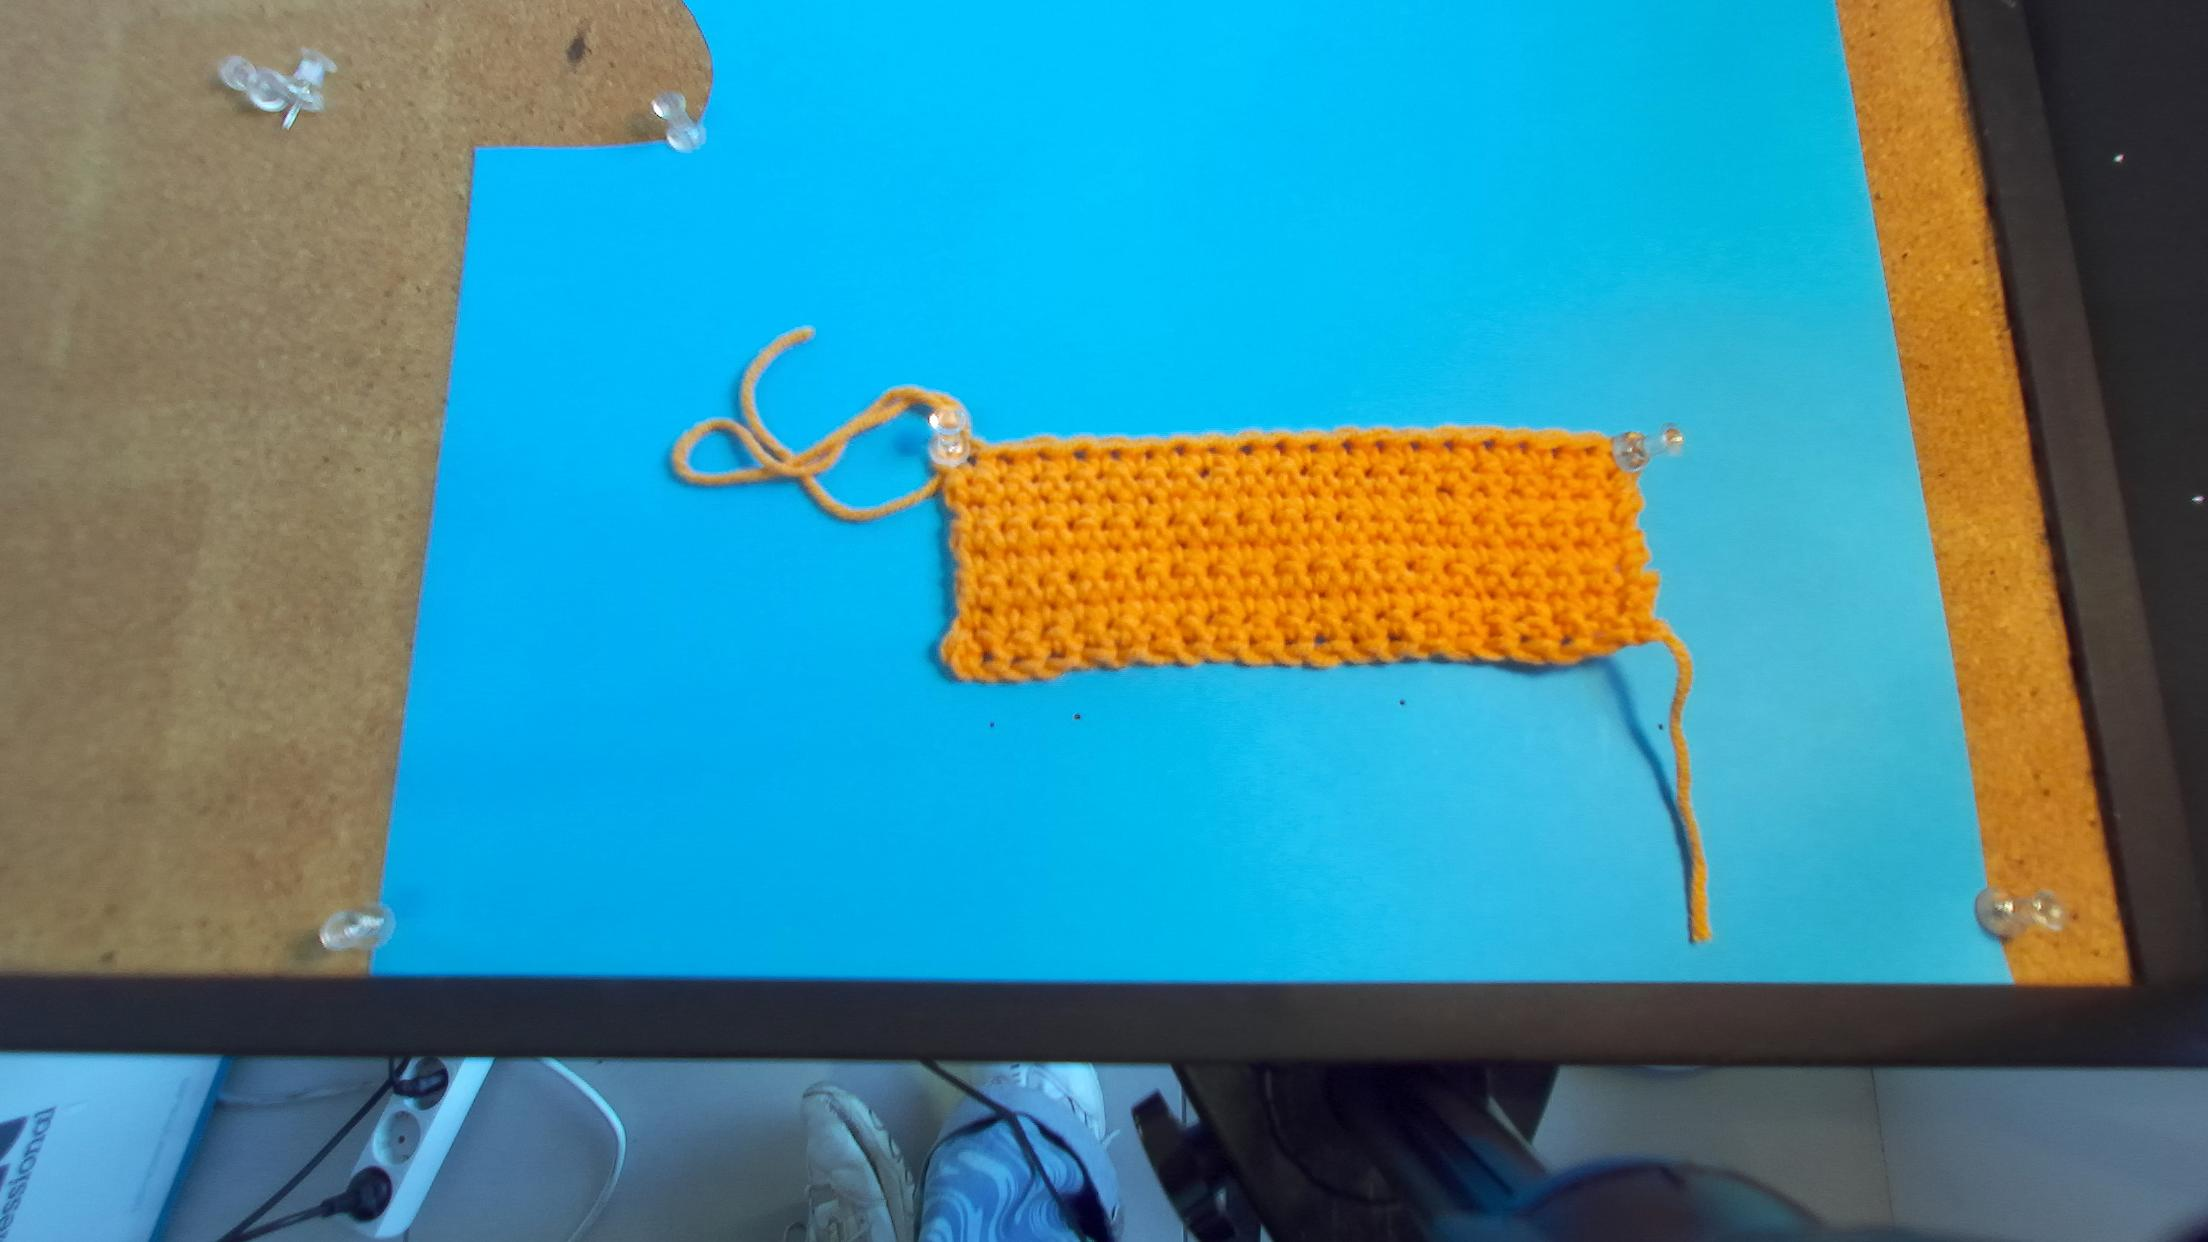hole: (995, 452, 1015, 466), (1339, 440, 1354, 455), (1072, 447, 1087, 461), (1583, 444, 1598, 456), (1109, 447, 1122, 459), (1441, 438, 1454, 450), (1237, 444, 1253, 455), (1480, 440, 1495, 450), (1274, 443, 1286, 455), (1516, 441, 1529, 453), (1550, 446, 1562, 458), (1037, 450, 1051, 461), (1374, 438, 1383, 453), (1304, 443, 1316, 453), (1410, 440, 1421, 452), (1174, 444, 1183, 458), (1207, 446, 1221, 455), (968, 453, 977, 466), (1143, 449, 1153, 461)
swatch: (936, 429, 1680, 690)
